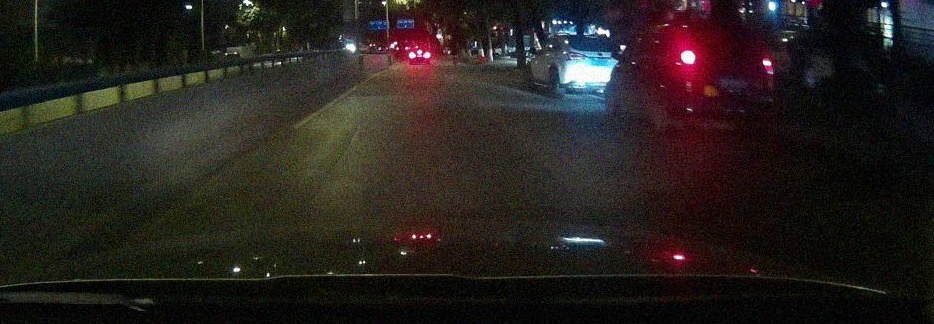L_light: (680, 50, 697, 65)
R_light: (762, 58, 775, 75)
T_light: (714, 37, 730, 42)
night-left: (673, 32, 776, 134)
